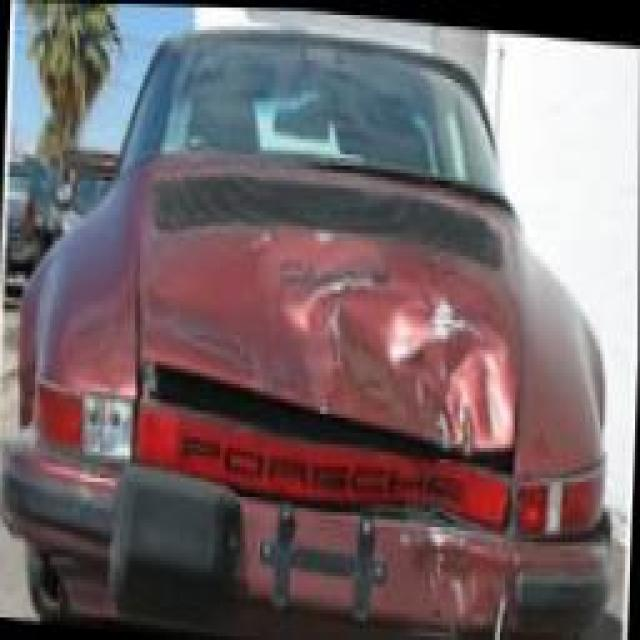Bumper: (8, 407, 591, 640)
Dickey: (118, 139, 544, 534)
